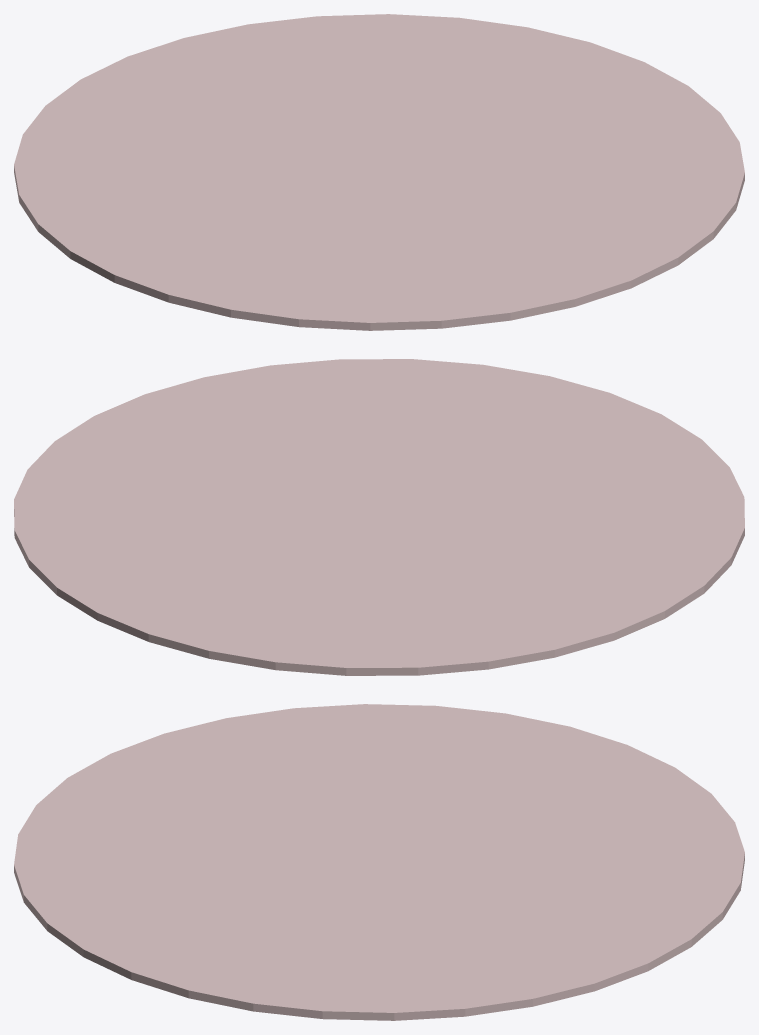
File: plate.glb
3 renders of one model, top to bottom at view 1: azimuth 30°, elevation 25°; view 2: azimuth 150°, elevation 25°; view 3: azimuth 270°, elevation 25°, orthographic.
Parts seen in each view (by area): view 1: plate; view 2: plate; view 3: plate.
Boxes of the visible parts, x1=… form: plate: x1=14, y1=14, x2=744, y2=330; plate: x1=14, y1=359, x2=744, y2=675; plate: x1=14, y1=704, x2=744, y2=1020.
Bounding box in the file's own units: 1.97 × 0.0235 × 1.97.
